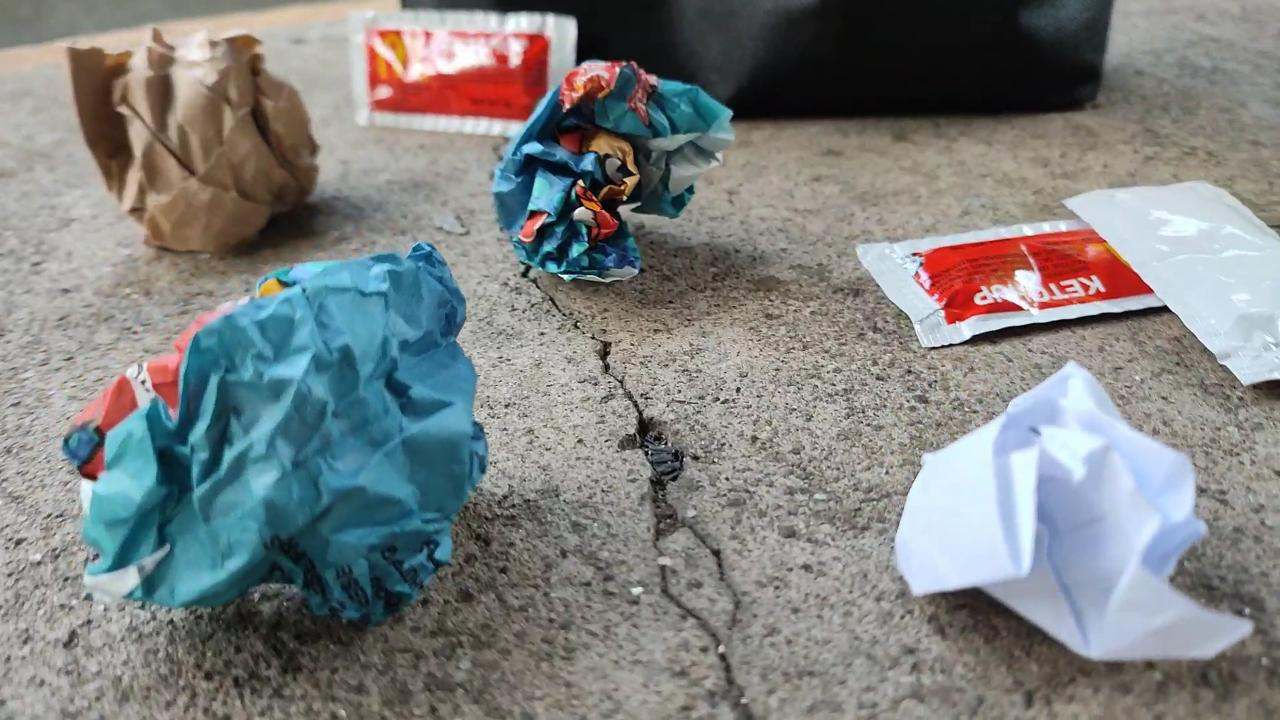Paper: (51, 244, 496, 661), (851, 354, 1262, 694), (44, 27, 326, 255), (500, 62, 724, 292)
